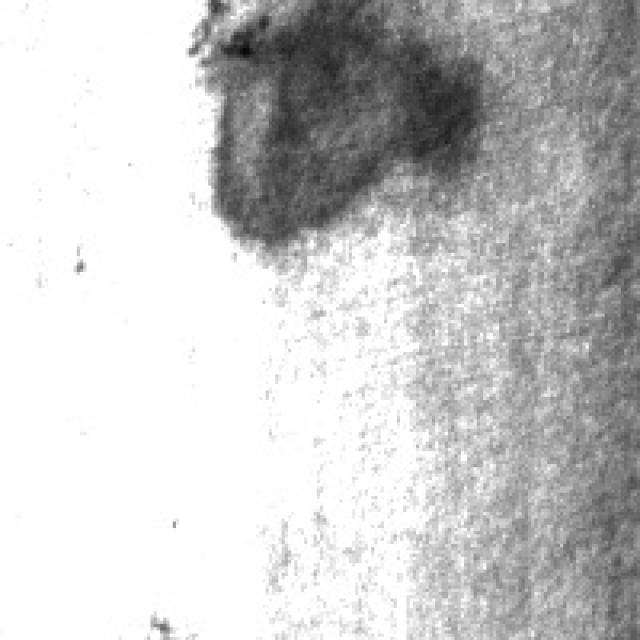patches: (208, 0, 477, 237)
